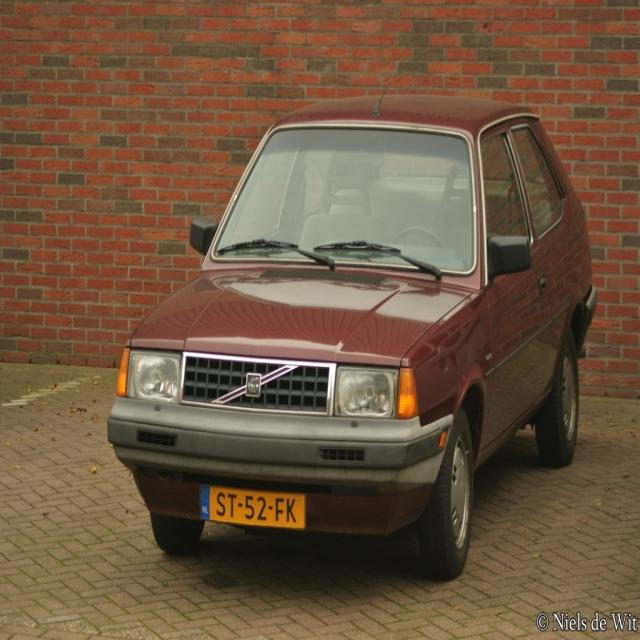car: (96, 93, 573, 586)
